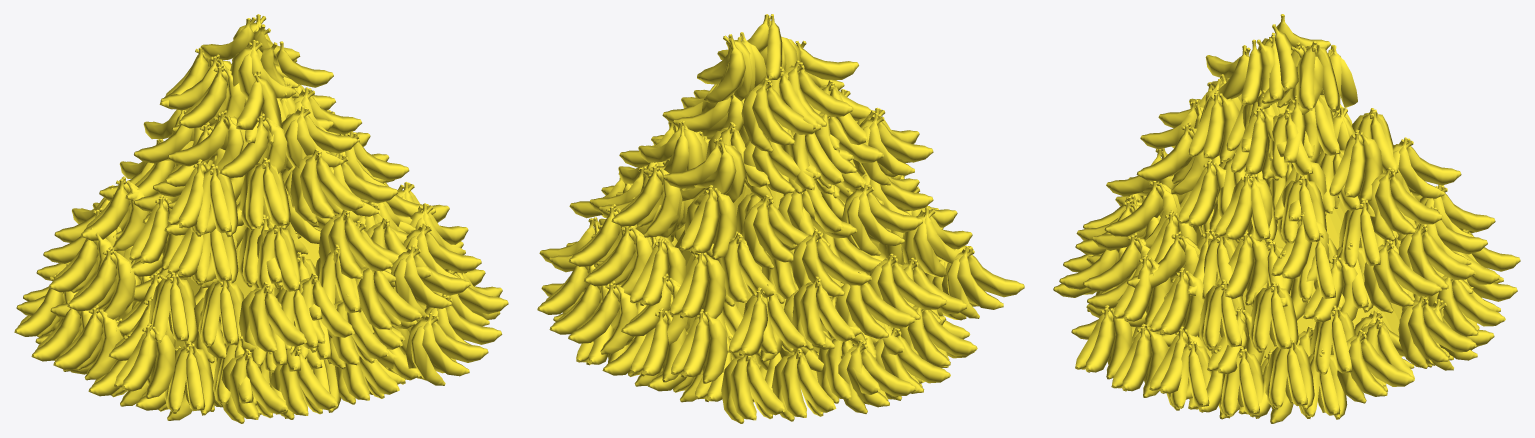
Rendered from BananaPile.fbx.
The picture shows the model from 3 angles, left to right: view 1: azimuth 30°, elevation 25°; view 2: azimuth 150°, elevation 25°; view 3: azimuth 270°, elevation 25°; orthographic projection. The views are drawn at different scales.
Parts seen in each view (by area): view 1: BananaBunch.338; view 2: BananaBunch.338; view 3: BananaBunch.338.
Part boxes in pixels (left/top/right/bottom): BananaBunch.338: left=14, top=14, right=508, bottom=423; BananaBunch.338: left=537, top=14, right=1024, bottom=423; BananaBunch.338: left=1053, top=14, right=1520, bottom=423.
Size of the model in its own units: 1002 by 774 by 973.
